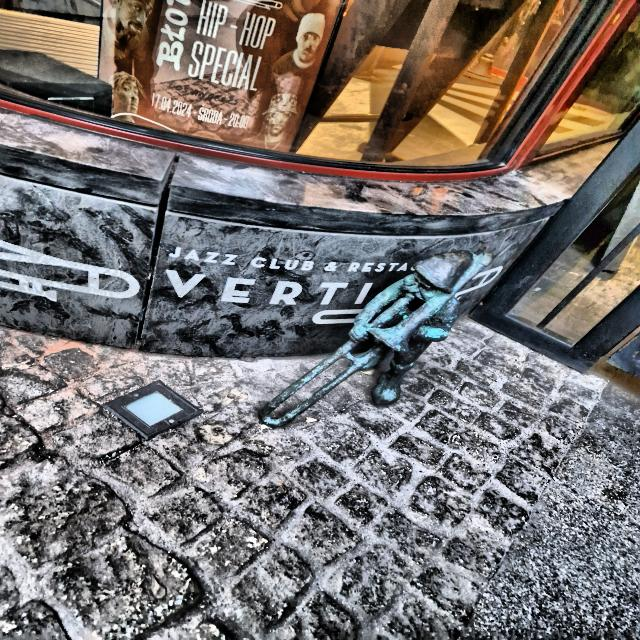Vertigus: (260, 251, 492, 426)
